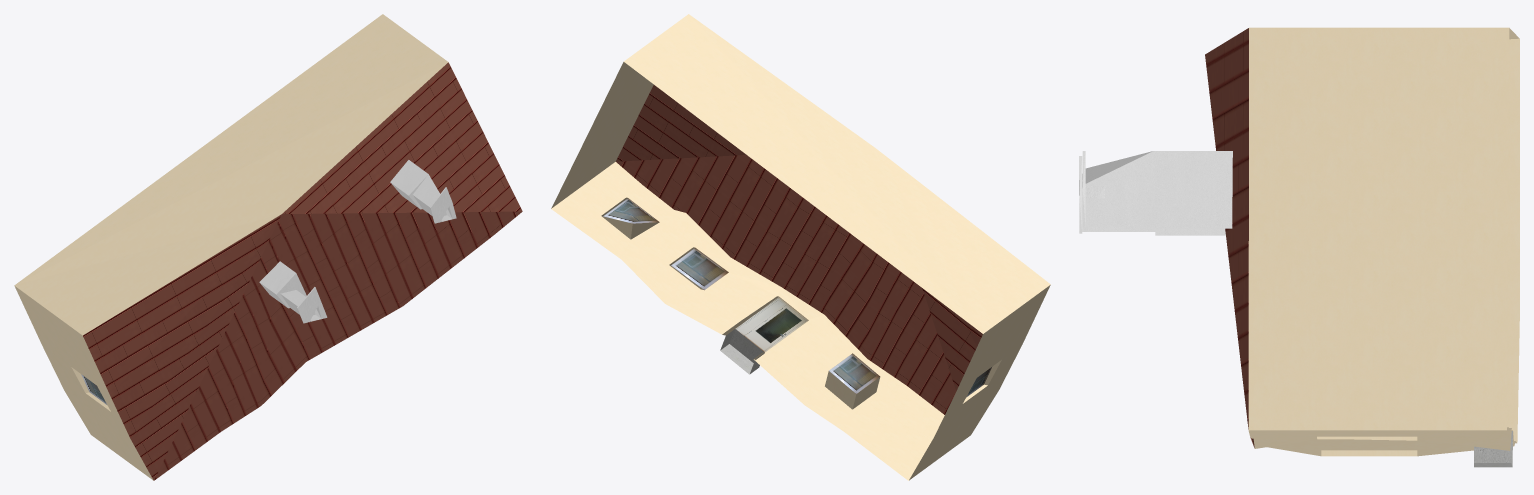
File: Tp10_2-origo.obj
The picture shows the model from 3 angles, left to right: view 1: azimuth 30°, elevation 25°; view 2: azimuth 150°, elevation 25°; view 3: azimuth 270°, elevation 25°; orthographic projection. The views are drawn at different scales.
Visible parts, largest first — view 1: Tp12_a_polySurface15; view 2: Tp12_a_polySurface15; view 3: Tp12_a_polySurface15.
Part boxes in pixels (x1=…): Tp12_a_polySurface15: x1=14, y1=14, x2=522, y2=480; Tp12_a_polySurface15: x1=551, y1=14, x2=1050, y2=480; Tp12_a_polySurface15: x1=1079, y1=27, x2=1519, y2=467.
Bounding box in the file's own units: 13.75 × 10.5 × 6.03.
